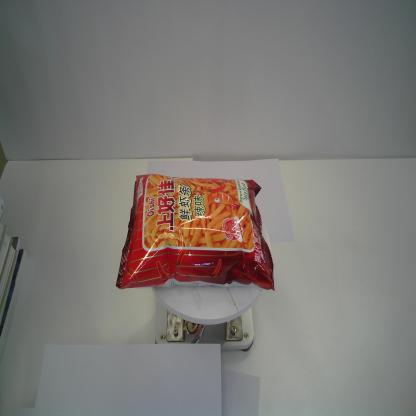Puffed Food: (114, 172, 276, 294)
